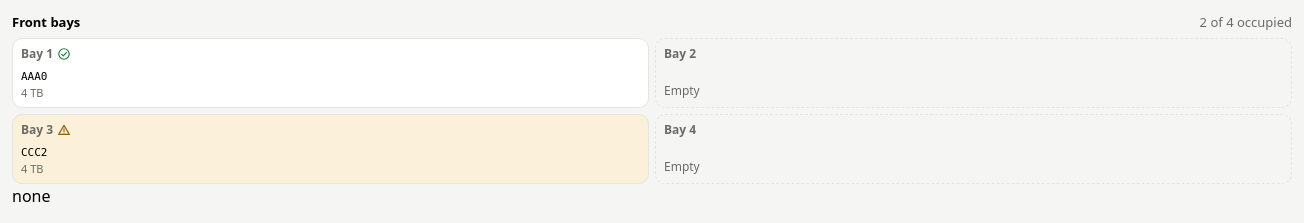
SlotPicker (R70) › R70: clicking selects exactly one tile; an occupied tile is selectable too
Click the radio button with aria-label "Bay 2, empty" at (680, 54), box [655,38,1292,108]
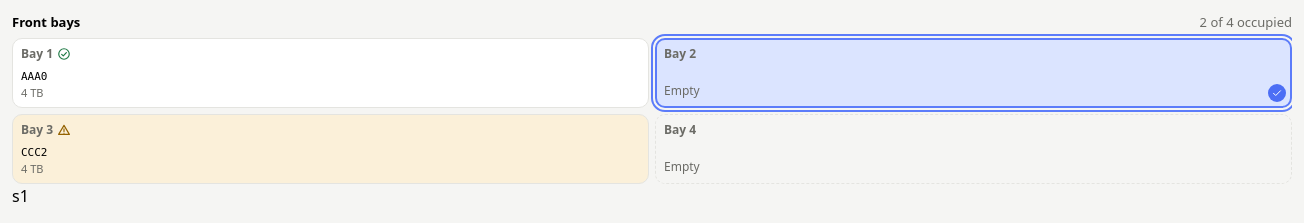
Expected: the 1st text "Empty" is shown, [664,82,700,101]
Now the text with test id "picked" reads "s1", box [12,185,29,207]
Click the radio button with aria-label "Bay 1, occupied by AAA0" at (37, 54), box [12,38,649,108]
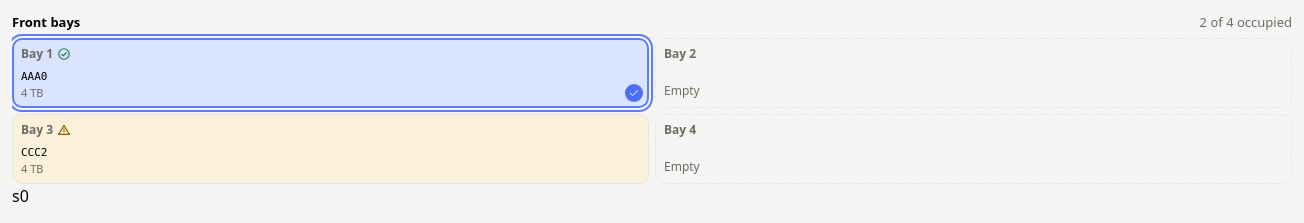
Now the text with test id "picked" reads "s0", box [12,185,29,207]
